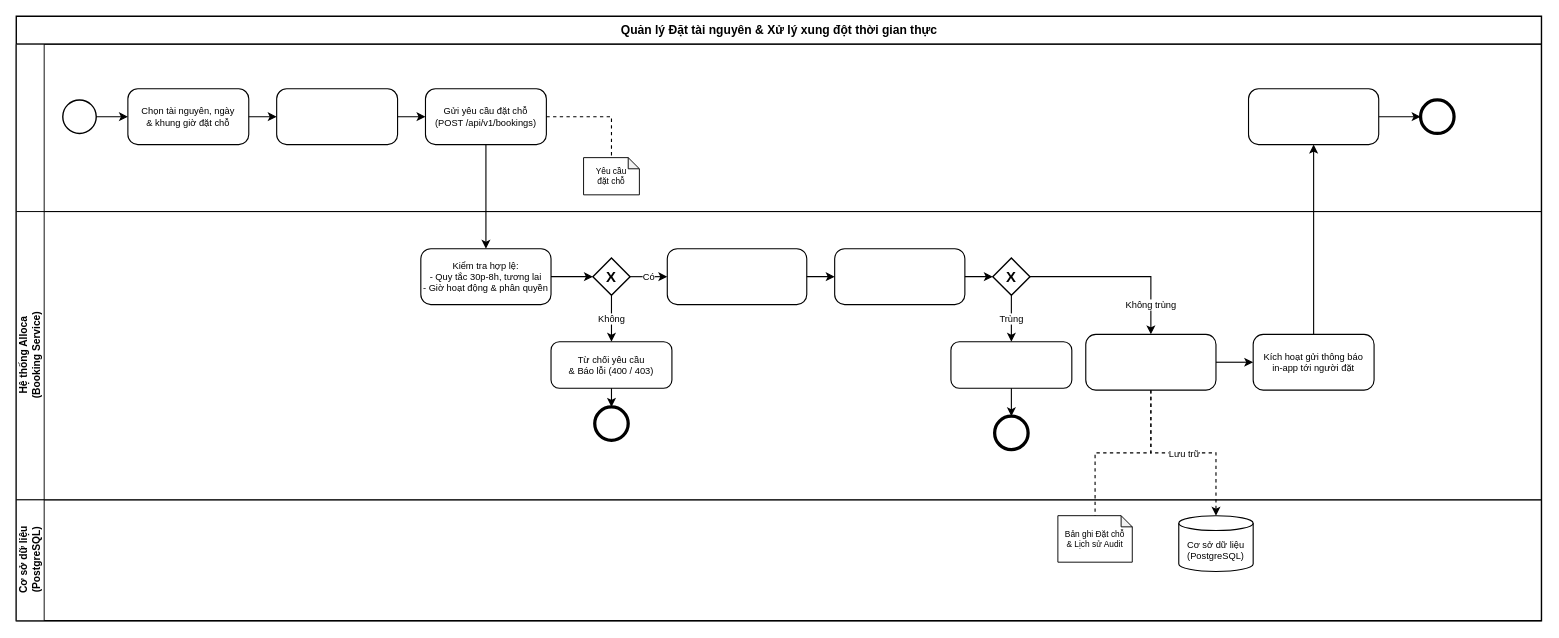
This 1559x638 diagram has some shape labels left out. Here are the shapes that lost their labels. From the top down, the box of each, then its label:
(276, 88, 398, 145): Nhập mục đích sử dụng & người tham gia
(15, 43, 1541, 212): Người dùng (Nhân viên / Quản lý)
(1248, 88, 1379, 145): Nhận thông báo xác nhận & mã đặt chỗ (201 Created)
(666, 248, 807, 305): Bắt đầu Transaction & Khóa hàng tài nguyên (Pessimistic Lock FOR UPDATE)
(834, 248, 965, 305): Kiểm tra trùng lịch với các booking CONFIRMED
(950, 341, 1072, 388): Rollback Transaction & Báo lỗi xung đột (409)
(1085, 333, 1216, 390): Lưu booking CONFIRMED, ghi nhận Audit Trail & Commit Transaction
